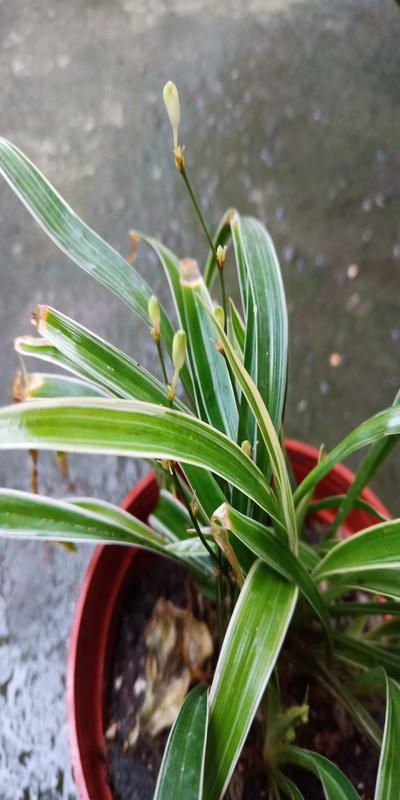Yellow and green leaf: (21, 252, 388, 693)
